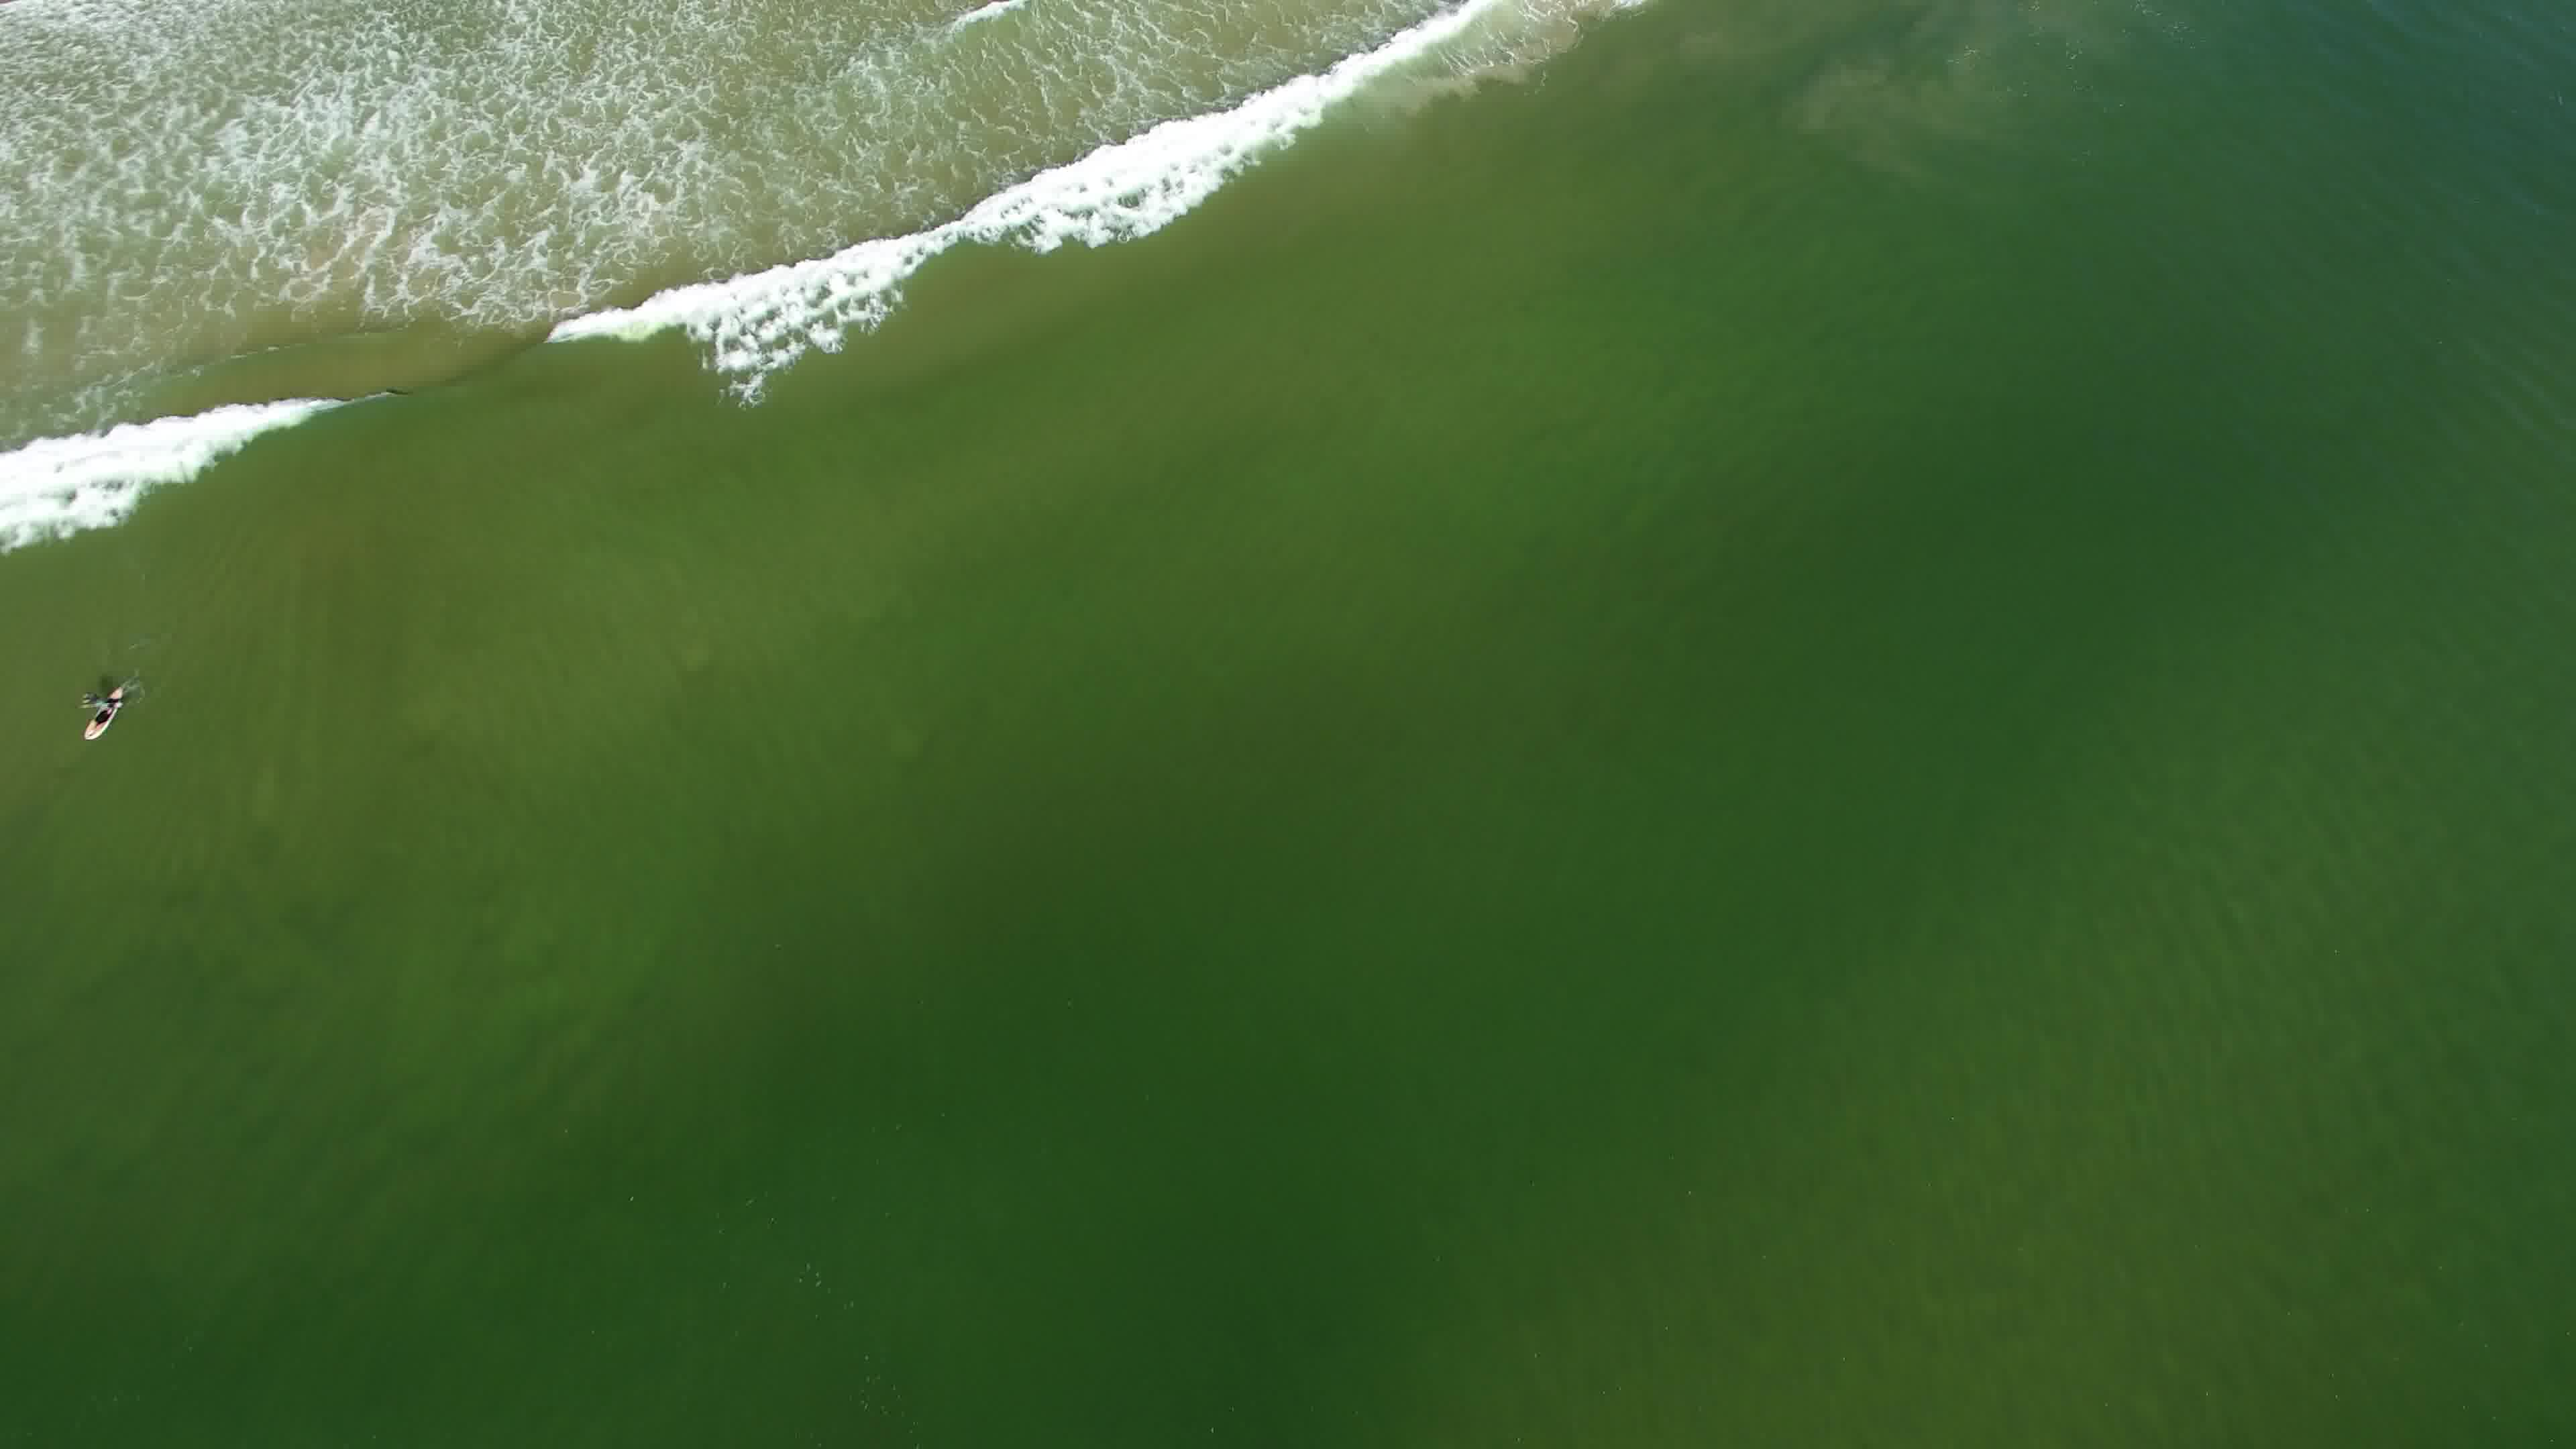surfer: (78, 676, 136, 747)
